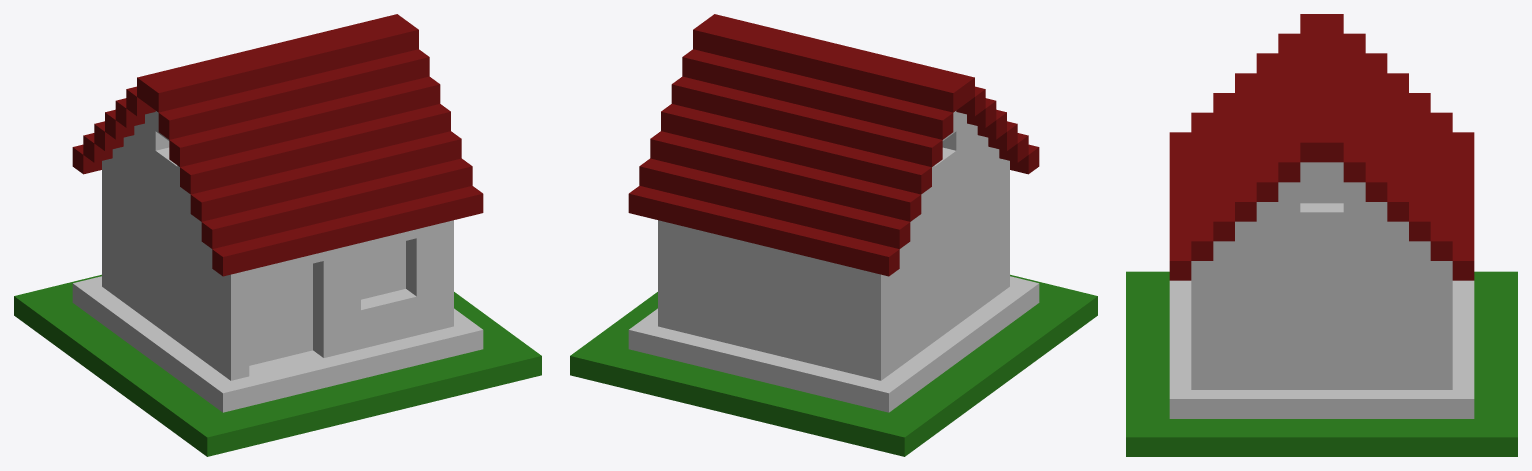
The picture shows the model from 3 angles, left to right: view 1: azimuth 30°, elevation 25°; view 2: azimuth 150°, elevation 25°; view 3: azimuth 270°, elevation 25°; orthographic projection.
Parts seen in each view (by area): view 1: house_13; view 2: house_13; view 3: house_13.
Part boxes in pixels (bbox=[...]): house_13: bbox=[14, 14, 541, 456]; house_13: bbox=[570, 14, 1097, 456]; house_13: bbox=[1126, 14, 1517, 456].
Size of the model in its own units: 4.5 by 3.75 by 4.5.
